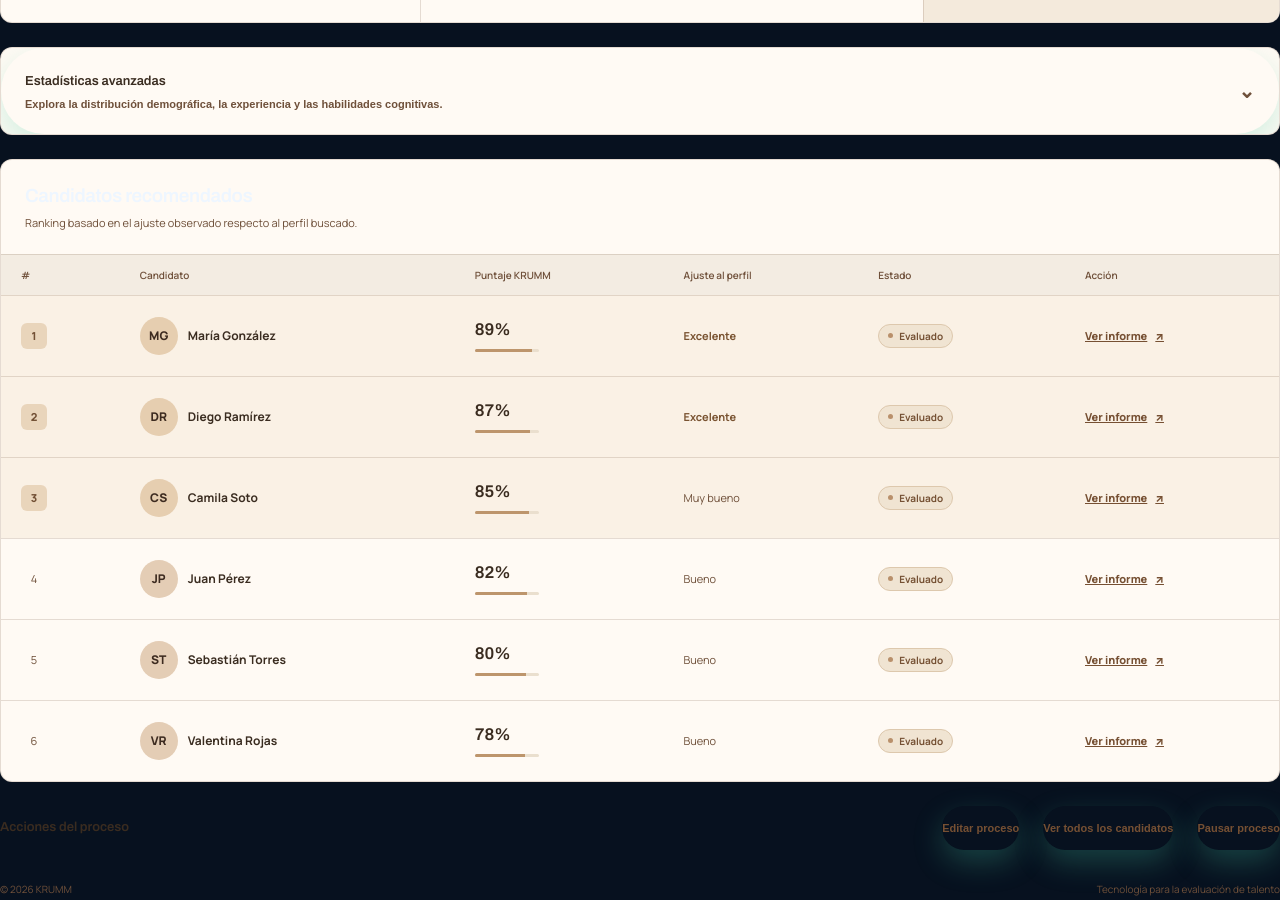
Test: E. Acciones — diálogo preview + menú ⋯ › Pausar proceso (sección actions) abre el diálogo con título y pd_mockAction; Cerrar lo cierra
(page scrolled)
Click the button "Pausar proceso": (1239, 828) 1198,806 -> 1279,850
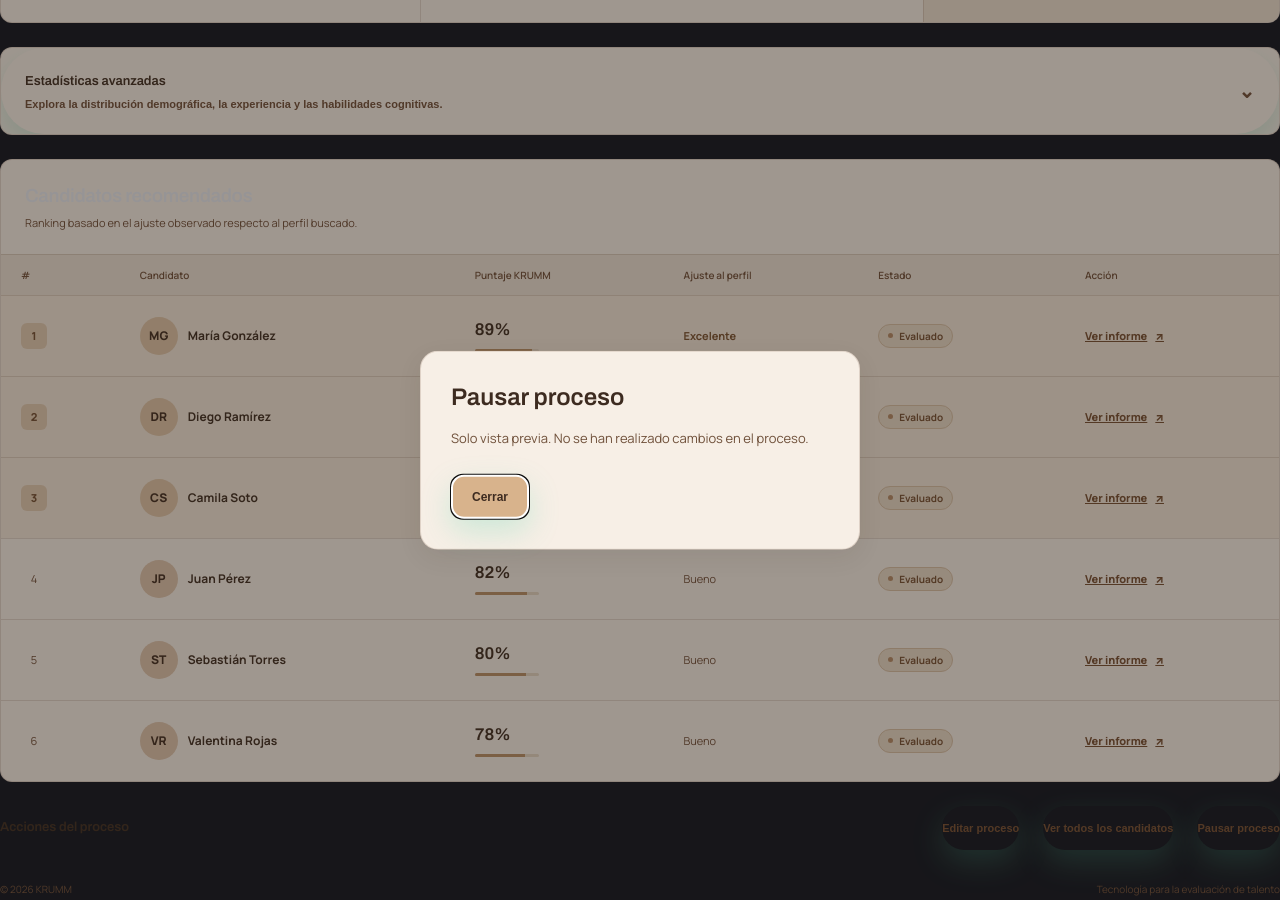
Expected: the heading "Pausar proceso" is shown, 451,384 -> 624,410
Expected: the text "Solo vista previa. No se han realizado cambios en el proceso." is shown, 451,427 -> 829,450
Click the button "Cerrar": (490, 496) 451,474 -> 529,518
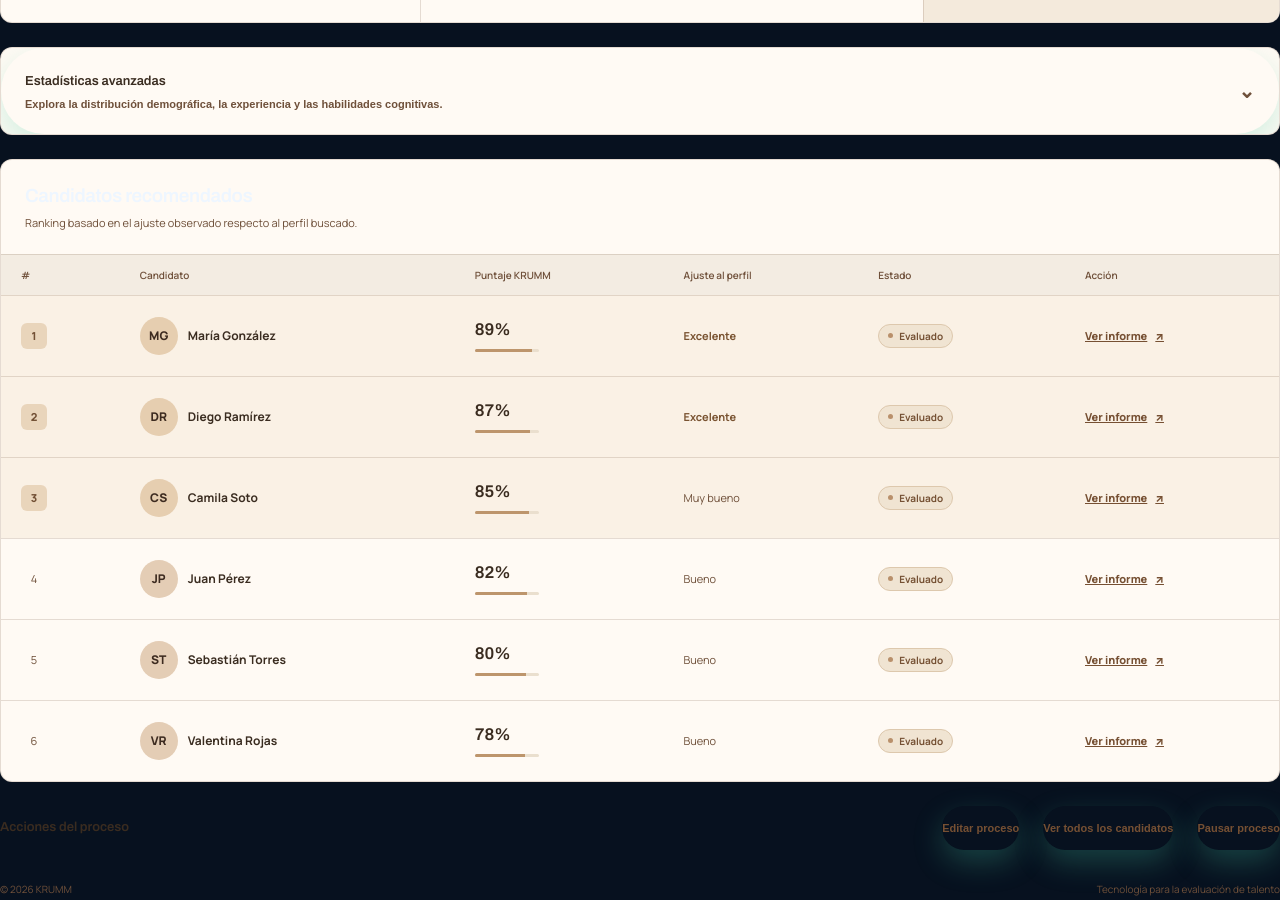
Expected: the dialog is gone
